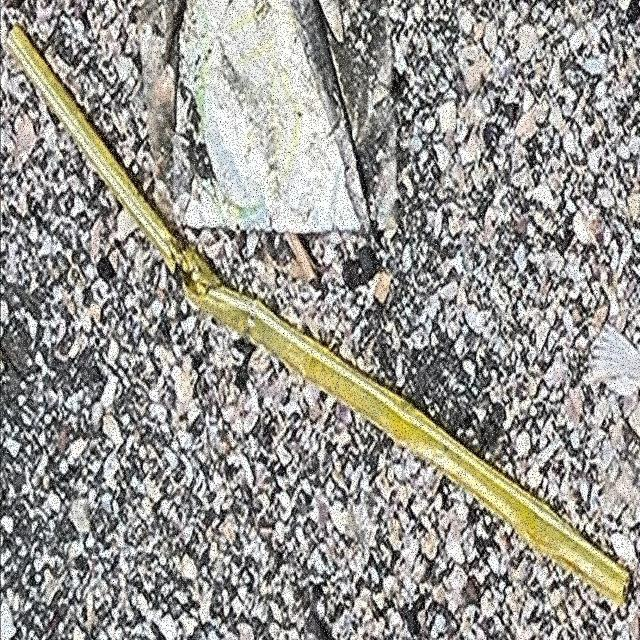plastic_waste: (7, 29, 631, 608)
